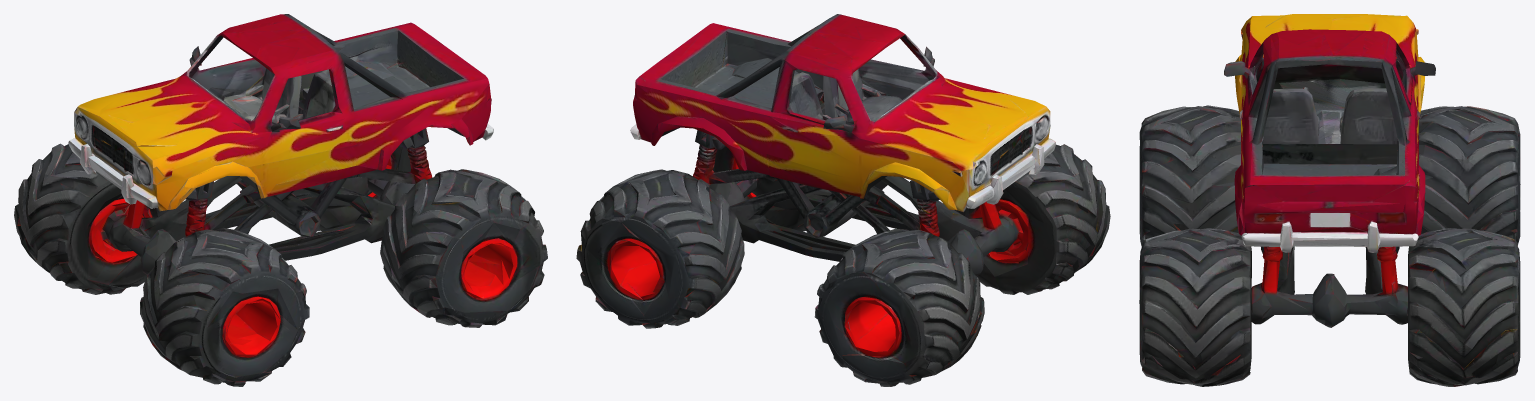
The model's file is veh_monstertruck.glb.
3 views of the same model, side by side, from view 1: azimuth 30°, elevation 25°; view 2: azimuth 150°, elevation 25°; view 3: azimuth 270°, elevation 25° (orthographic). The views are drawn at different scales.
Bounding box in the file's own units: 1.9 × 1.25 × 1.57.
Materials: 1 (1 with a texture image).
